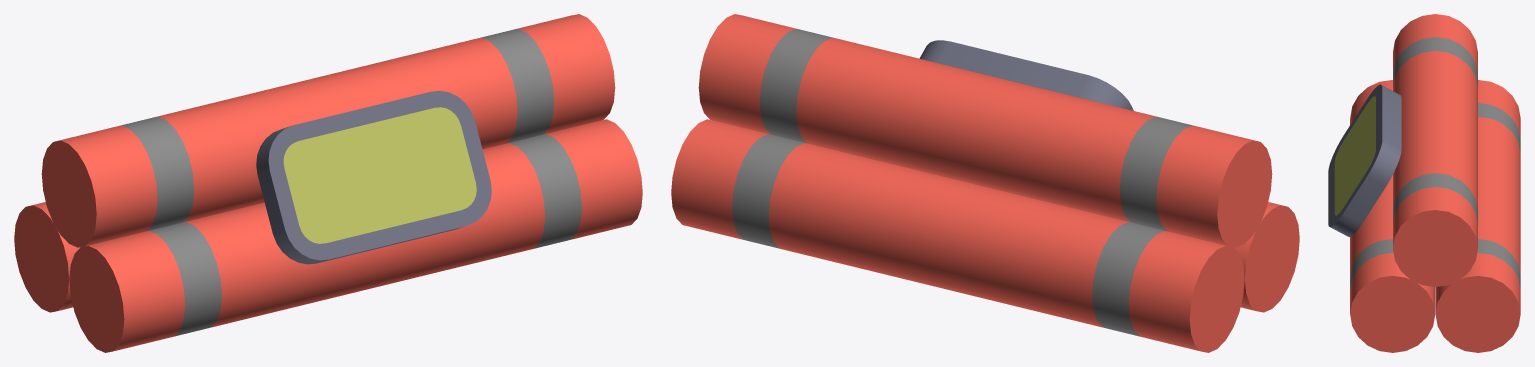
File: Bomb.fbx
3 views of the same model, side by side, from view 1: azimuth 30°, elevation 25°; view 2: azimuth 150°, elevation 25°; view 3: azimuth 270°, elevation 25° (orthographic). The views are drawn at different scales.
Parts seen in each view (by area): view 1: Bomb; view 2: Bomb; view 3: Bomb.
Part boxes in pixels (x1,y1,x2,y2): Bomb: (14,14,642,352); Bomb: (671,14,1299,352); Bomb: (1328,14,1520,352).
Size of the model in its own units: 0.8307 by 0.2828 by 0.3447.
